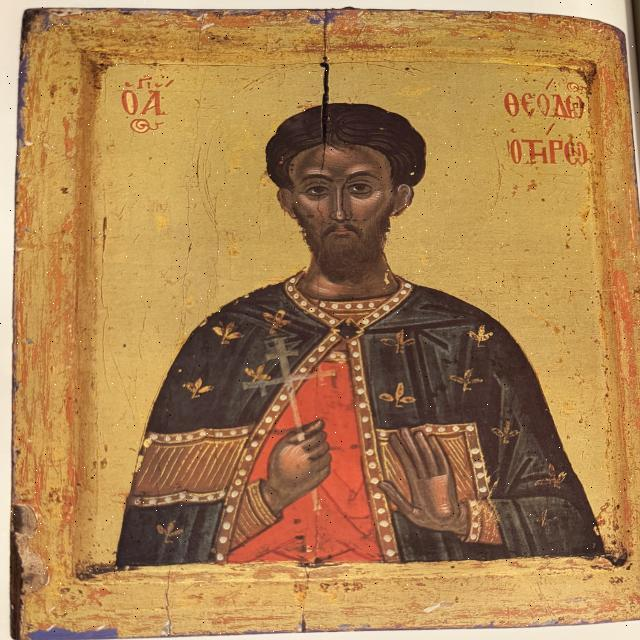saint: (110, 58, 610, 568)
